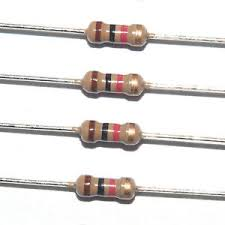resistor: (61, 159, 162, 217), (68, 14, 160, 68), (68, 106, 158, 160), (65, 60, 154, 113)
